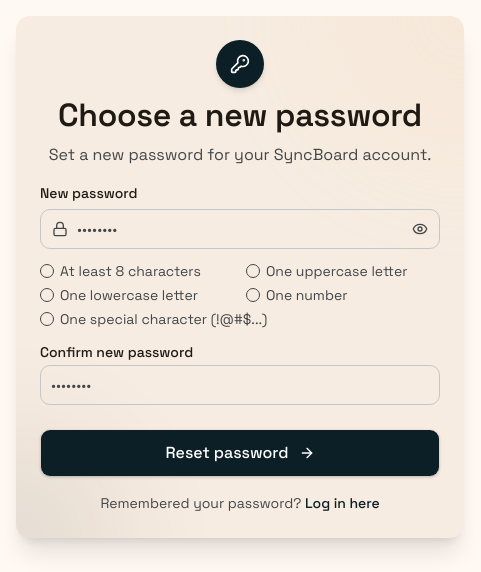
Test: ResetPasswordPage › shows a pending state while the request is in flight
The image size is (481, 572).
Type "correct-password1" into the password field labelled "New password".
click(240, 230); type("correct-password1")  # box [40,210,440,250]
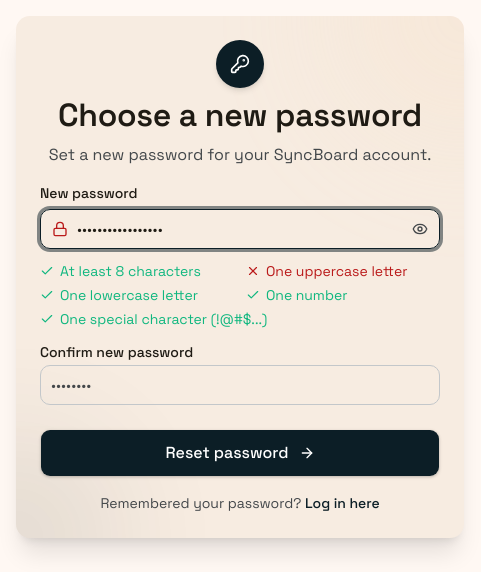
Type "correct-password1" into the password field labelled "Confirm new password".
click(240, 386); type("correct-password1")  # box [40,366,440,406]
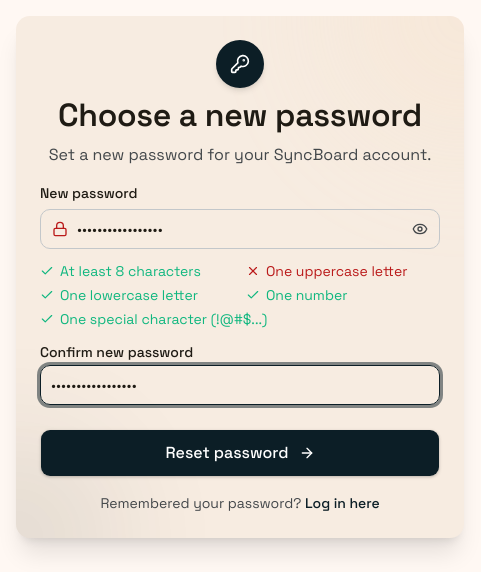
Click the button "Reset password".
click(240, 454)  # box [40,430,440,478]
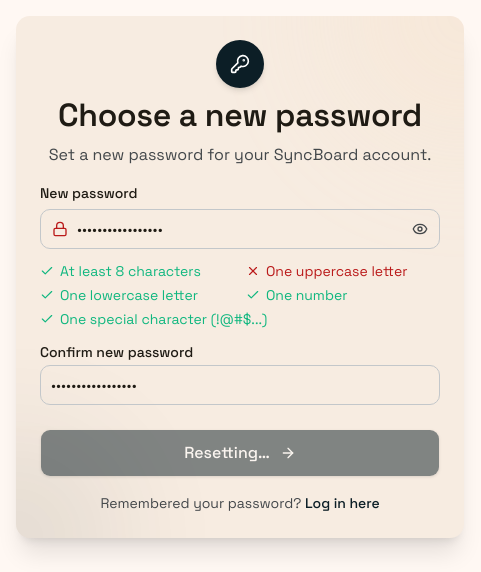
expect the button "Resetting…" is disabled: met, box [40,430,440,478]
